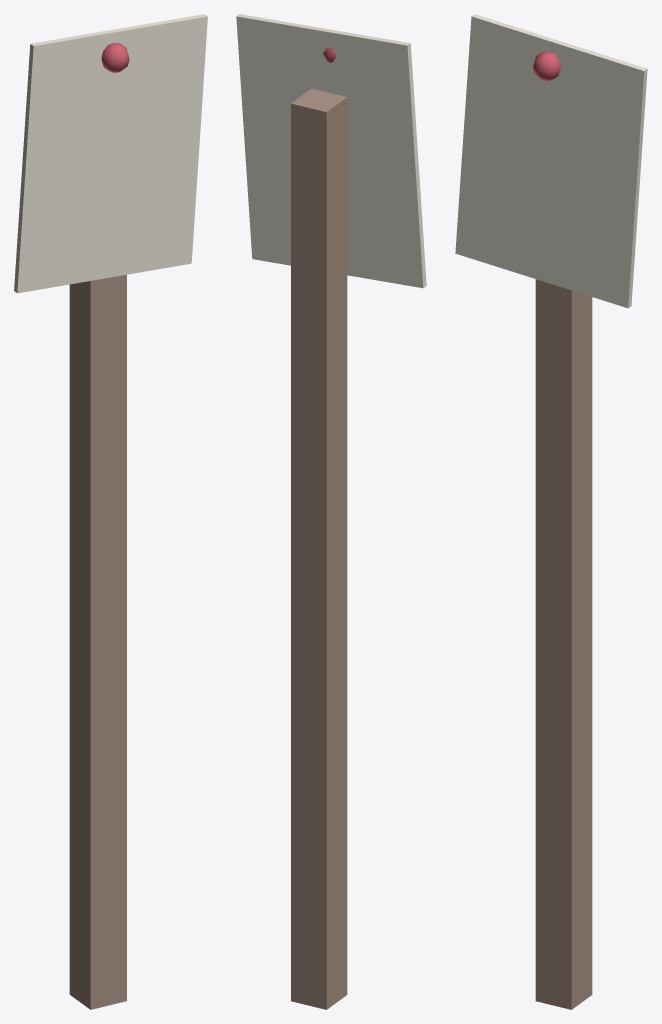
File: TricksterNote.fbx
3 views of the same model, side by side, from view 1: azimuth 30°, elevation 25°; view 2: azimuth 150°, elevation 25°; view 3: azimuth 330°, elevation 25° (orthographic).
Parts seen in each view (by area): view 1: TricksterNote; view 2: TricksterNote; view 3: TricksterNote.
Boxes of the visible parts, <box> form: TricksterNote: <box>14,14,207,1009</box>; TricksterNote: <box>236,14,426,1009</box>; TricksterNote: <box>455,14,647,1009</box>.
Bounding box in the file's own units: 0.2617 × 1.29 × 0.083.
